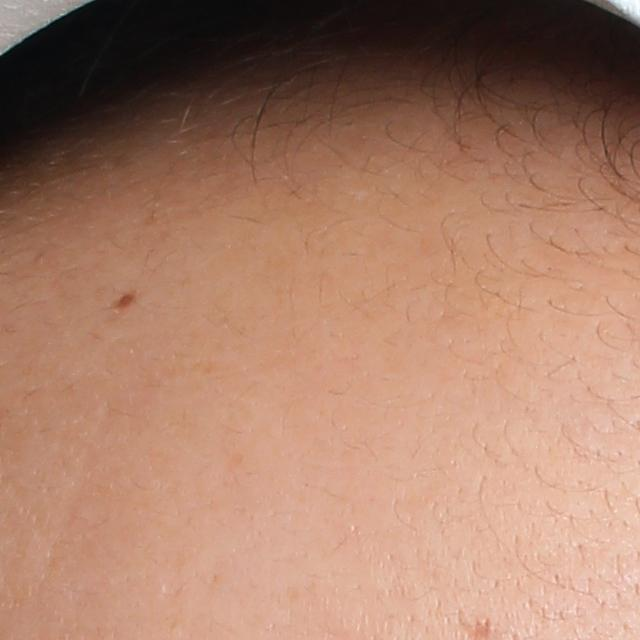nevus: (112, 284, 136, 310)
